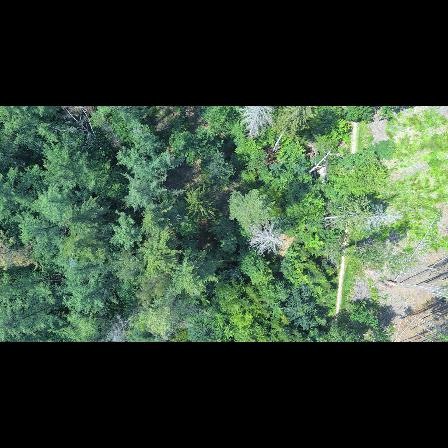Dead: (245, 219, 289, 257), (236, 106, 277, 141), (364, 206, 405, 234), (98, 312, 135, 342)
